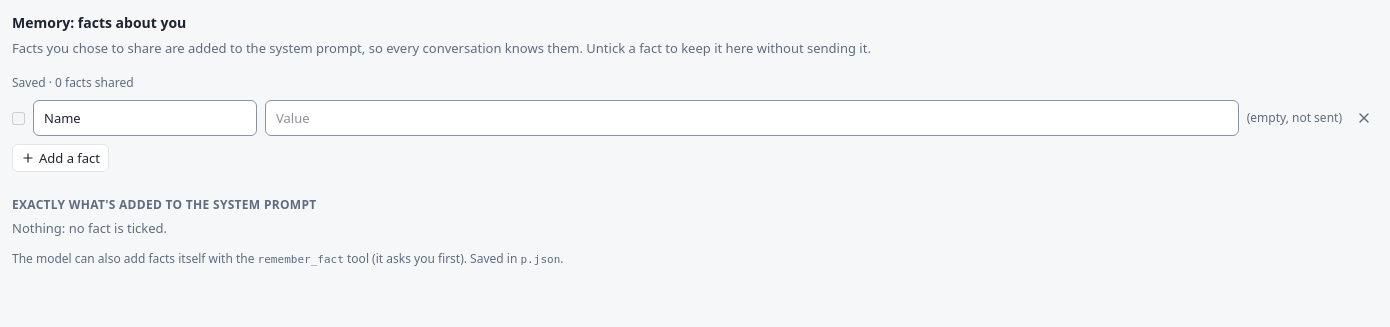
Test: Memory › a blank fact you just added stays after its save comes back
The image size is (1390, 327).
Step 1. Click the button "Add a fact" → (61, 158), box [12,144,109,172]
Wait 1500 ms
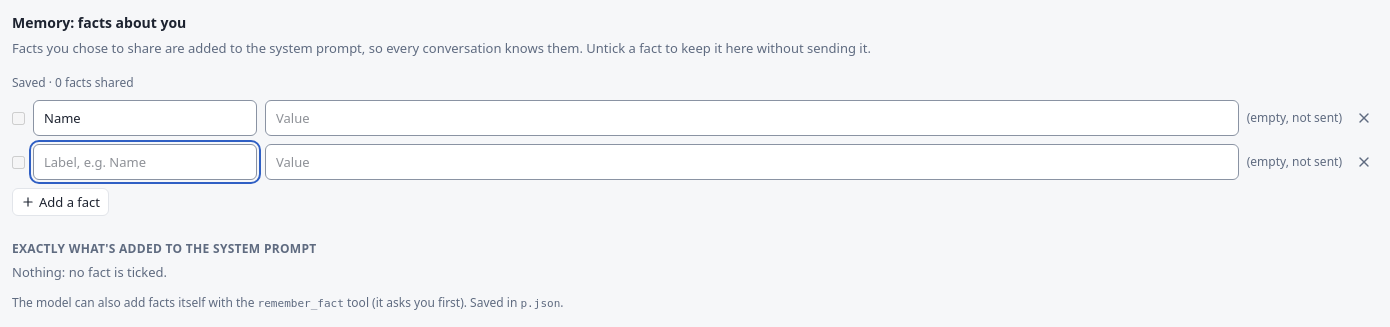
Check: the field named "Label of fact 2" is shown, box [33,144,257,180]
